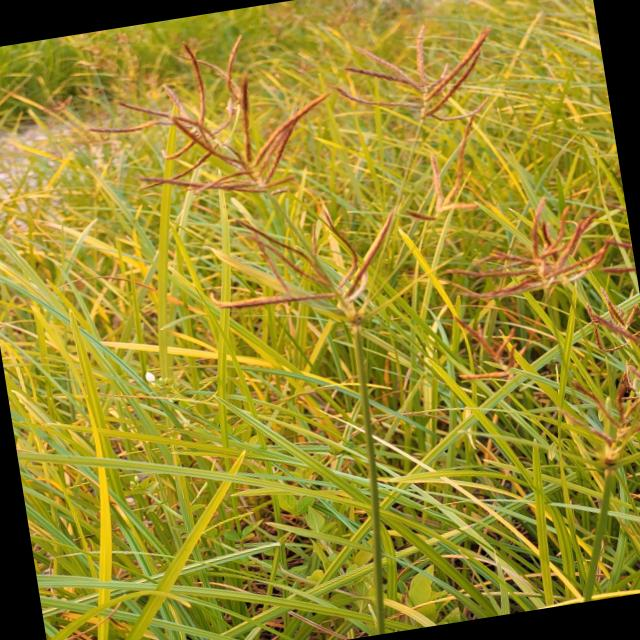cyperus: (424, 185, 640, 466), (78, 22, 342, 230), (190, 186, 414, 344), (336, 6, 508, 144)
